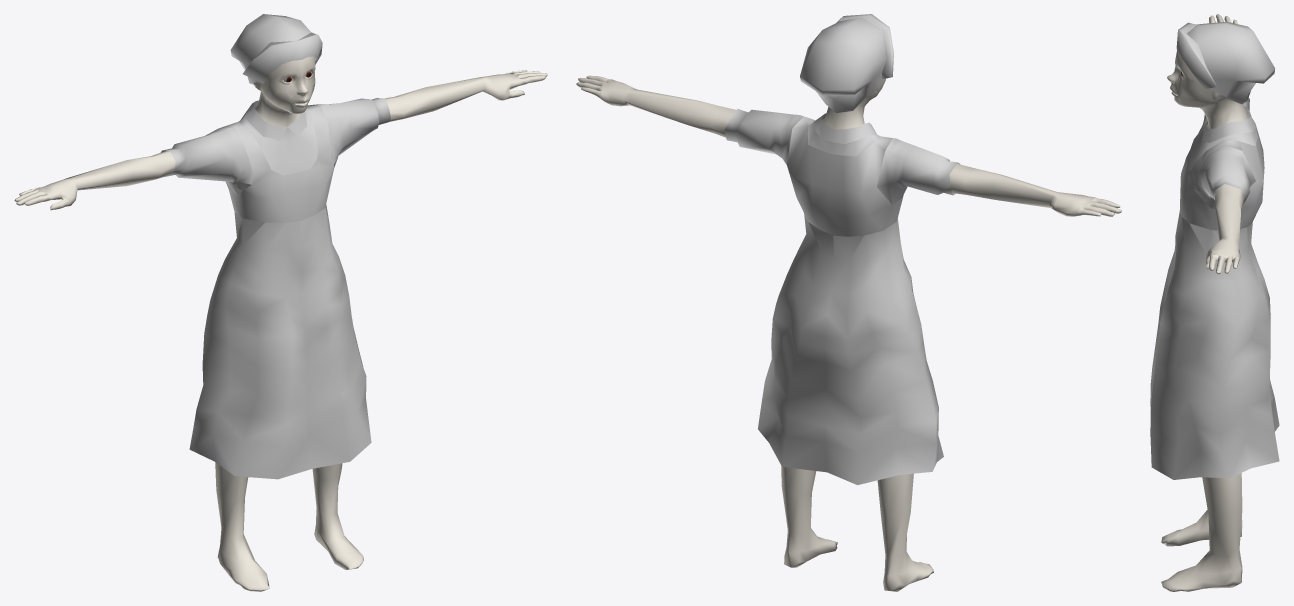
The model's file is Roupa.fbx.
The picture shows the model from 3 angles, left to right: view 1: azimuth 30°, elevation 25°; view 2: azimuth 150°, elevation 25°; view 3: azimuth 270°, elevation 25°; orthographic projection. The views are drawn at different scales.
Parts seen in each view (by area): view 1: Cabeça, male1591Mesh; view 2: Cabeça, male1591Mesh; view 3: Cabeça, male1591Mesh.
Boxes of the visible parts, x1,y1,x2,y2 form: Cabeça: [160, 14, 390, 479]; male1591Mesh: [14, 56, 547, 591]; Cabeça: [724, 14, 960, 485]; male1591Mesh: [576, 75, 1121, 591]; Cabeça: [1150, 21, 1279, 479]; male1591Mesh: [1161, 14, 1247, 591].
Bounding box in the file's own units: 465 × 453 × 98.17.
